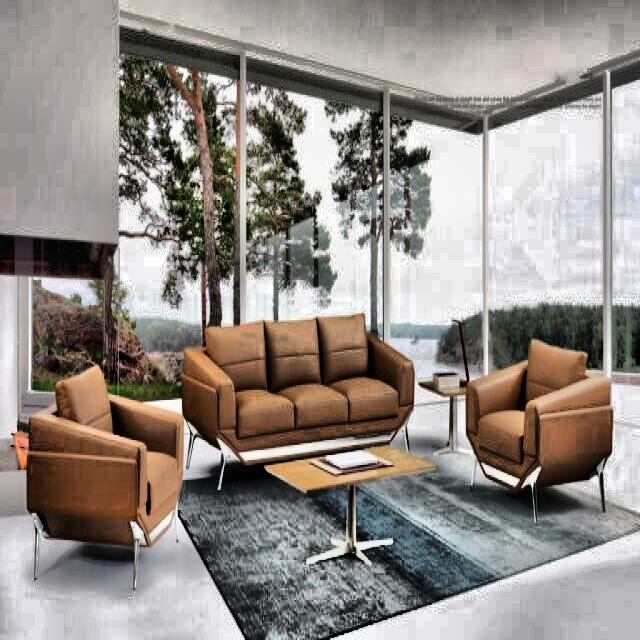sofa: (180, 310, 415, 490), (25, 364, 184, 588), (465, 337, 613, 523)
